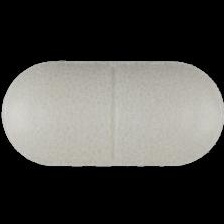15338-133: (0, 0, 224, 224)
